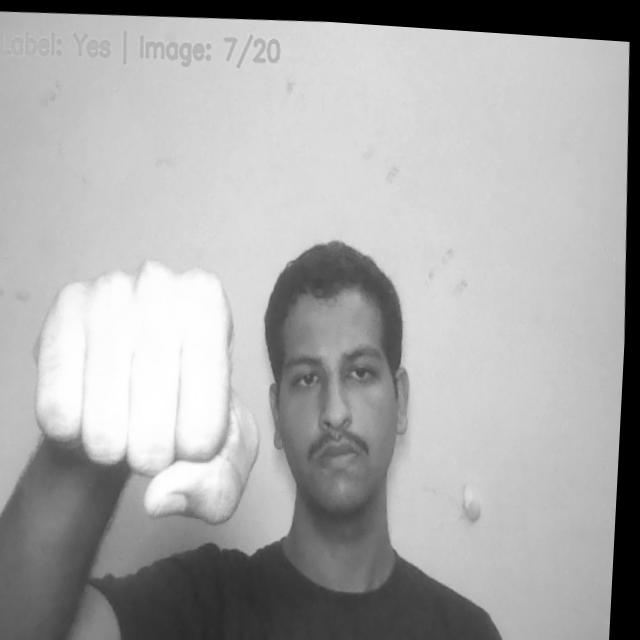Yes: (27, 242, 278, 538)
